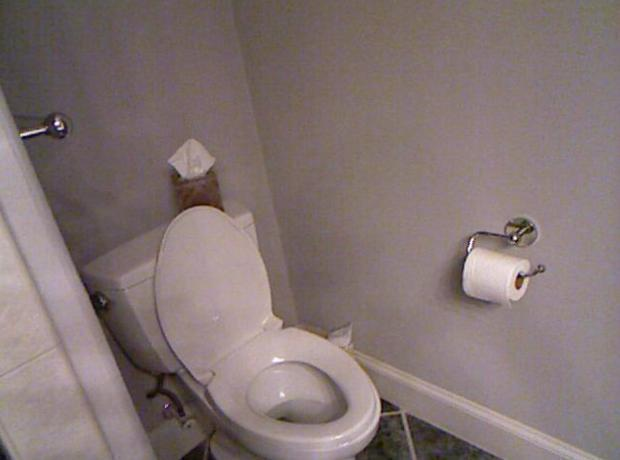Sanitario: (90, 204, 405, 454)
